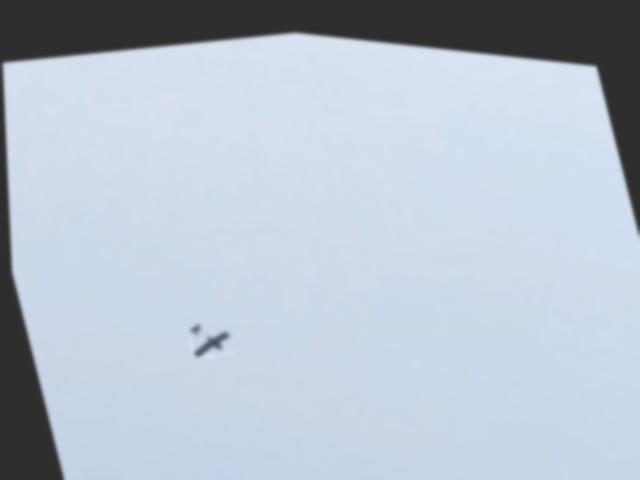insansiz-hava-araci: (182, 313, 231, 358)
